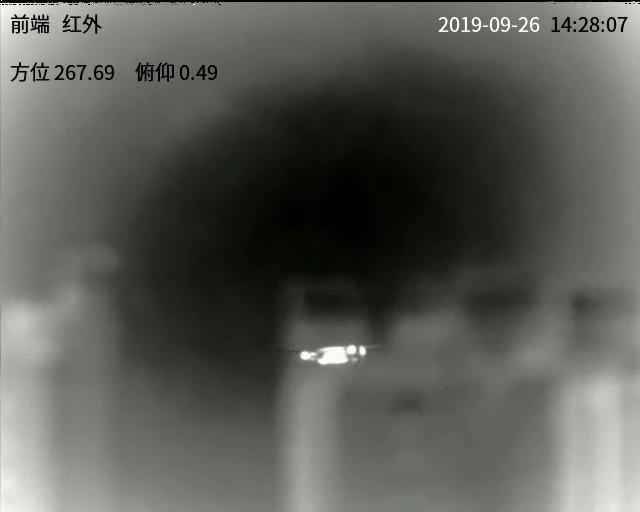uav: (287, 340, 368, 370)
